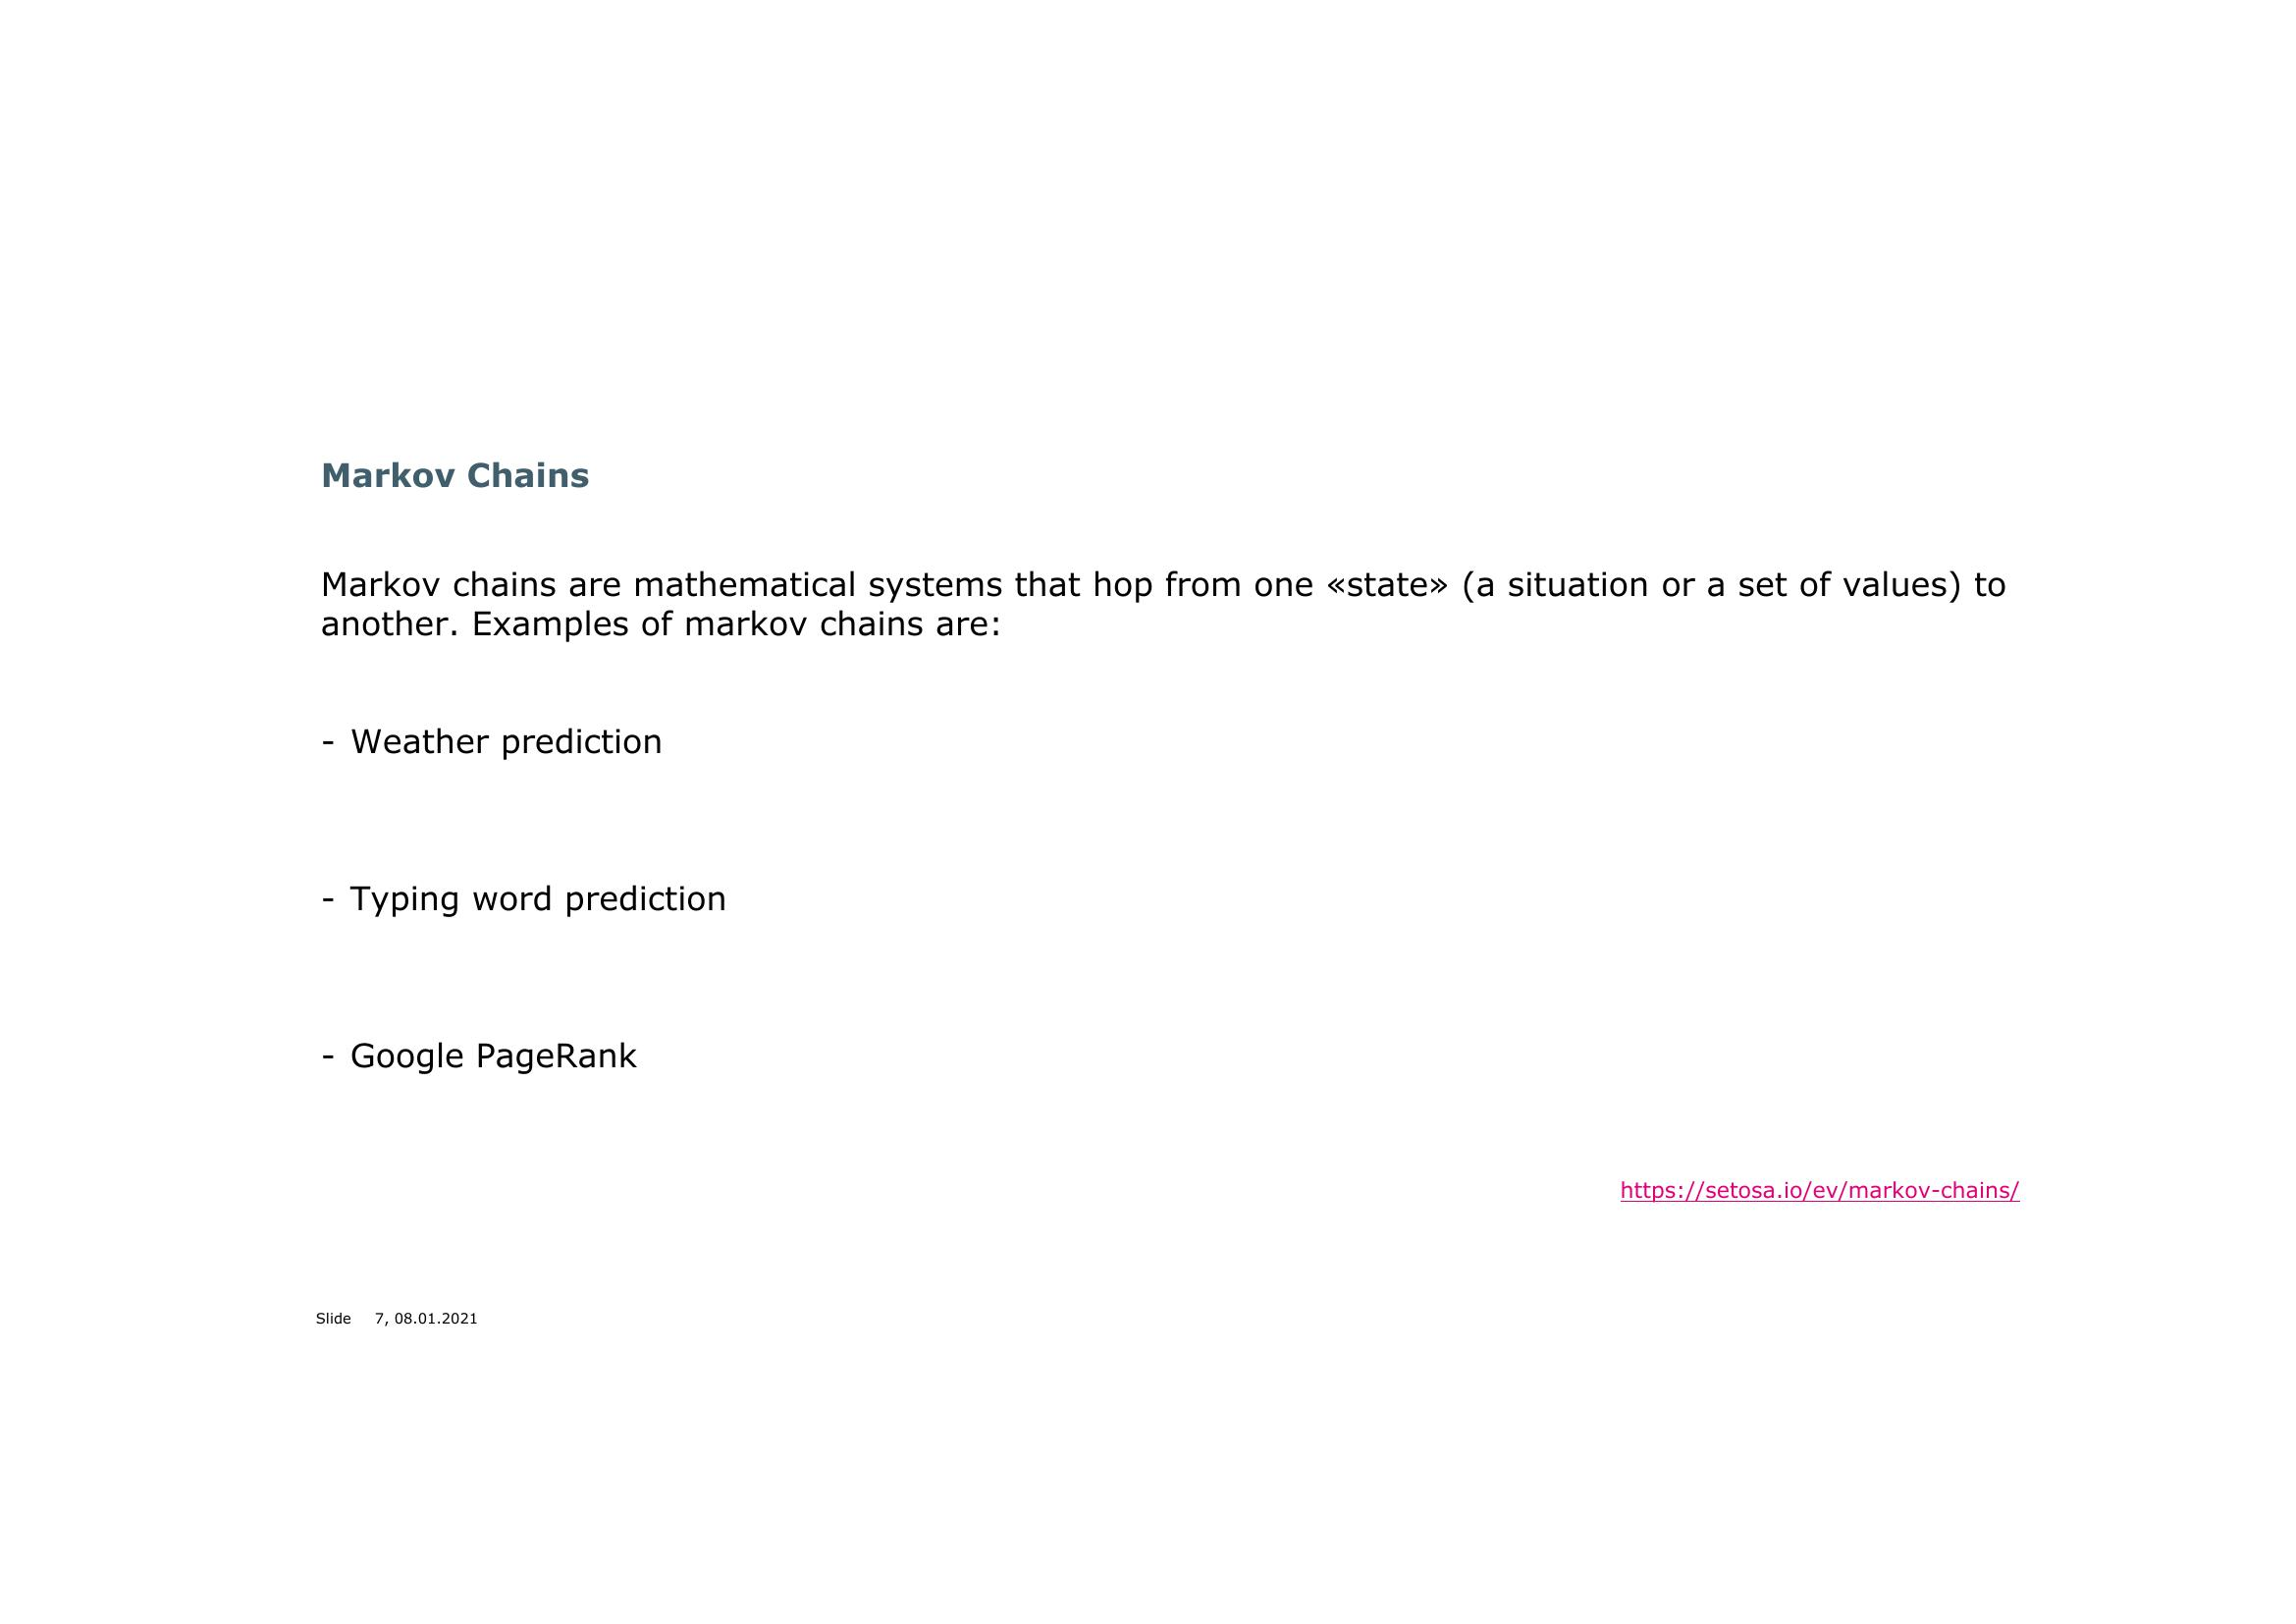Title: (307, 450, 604, 508)
